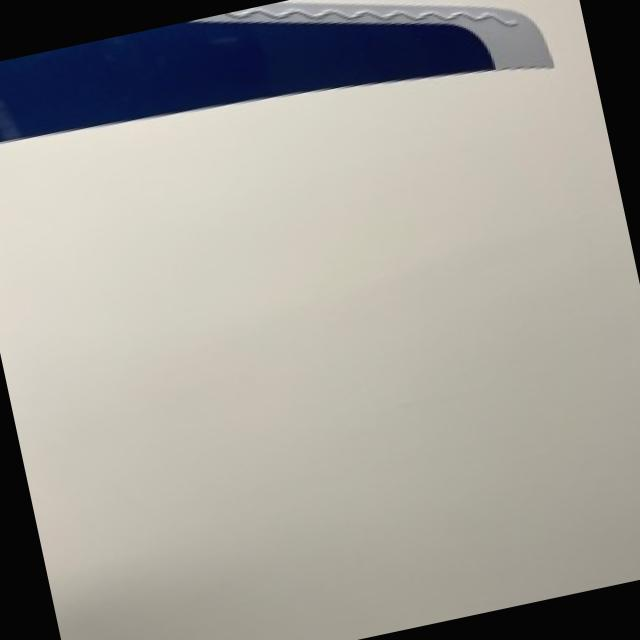healthy: (0, 0, 555, 139)
